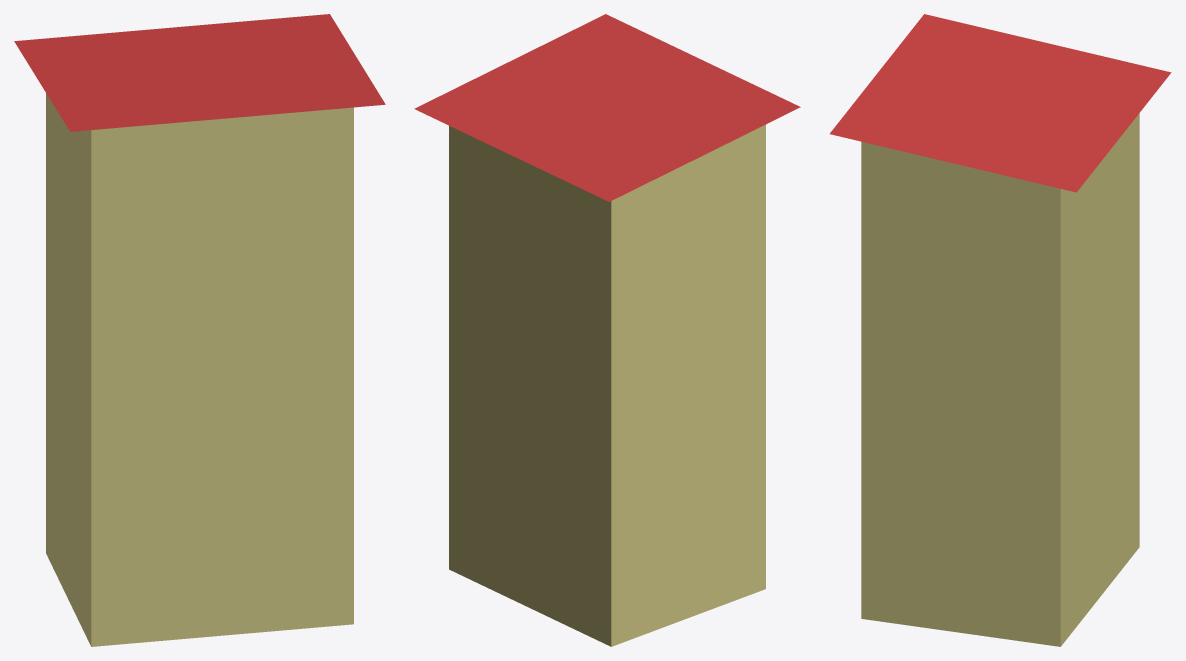
The picture shows the model from 3 angles, left to right: view 1: azimuth 30°, elevation 25°; view 2: azimuth 150°, elevation 25°; view 3: azimuth 270°, elevation 25°; orthographic projection. The views are drawn at different scales.
Size of the model in its own units: 3.65 by 3.41 by 5.4.
